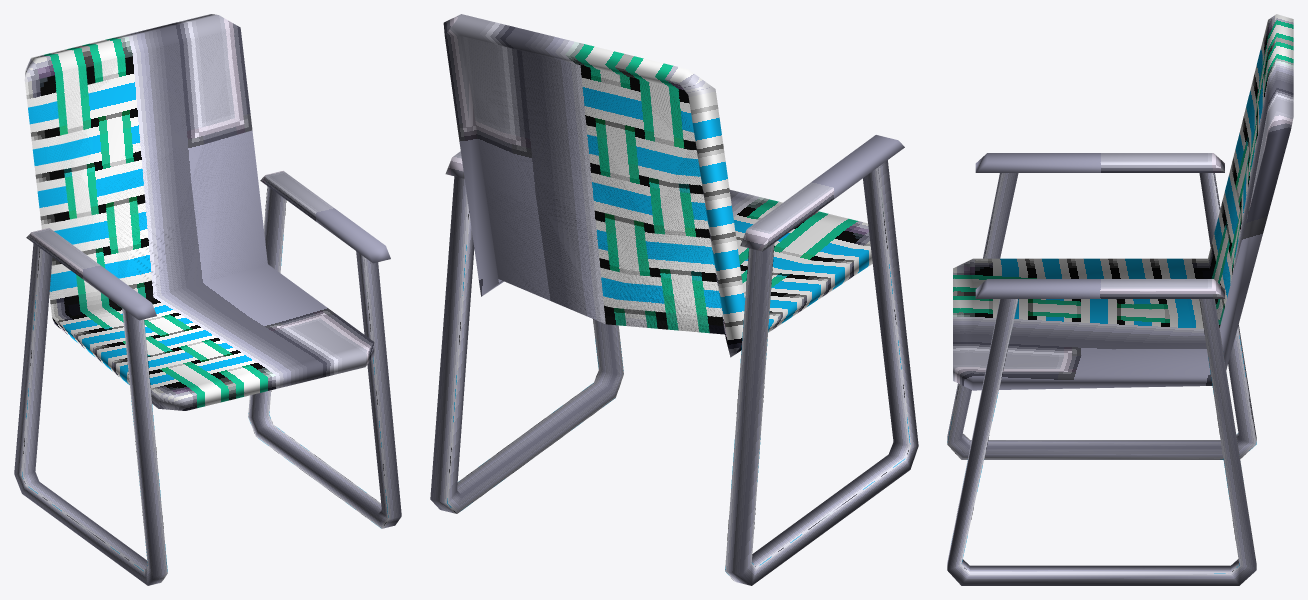
Rendered from rmk_gdn_chairS.dae.
The picture shows the model from 3 angles, left to right: view 1: azimuth 30°, elevation 25°; view 2: azimuth 150°, elevation 25°; view 3: azimuth 270°, elevation 25°; orthographic projection. The views are drawn at different scales.
Visible parts, largest first — view 1: rmk_gdn_chairS; view 2: rmk_gdn_chairS; view 3: rmk_gdn_chairS.
Part boxes in pixels (left/top/right/bottom): rmk_gdn_chairS: left=14, top=14, right=401, bottom=585; rmk_gdn_chairS: left=430, top=14, right=918, bottom=585; rmk_gdn_chairS: left=947, top=14, right=1293, bottom=585.
Size of the model in its own units: 22.4 by 35.2 by 24.2.
1 material, 1 textured.
